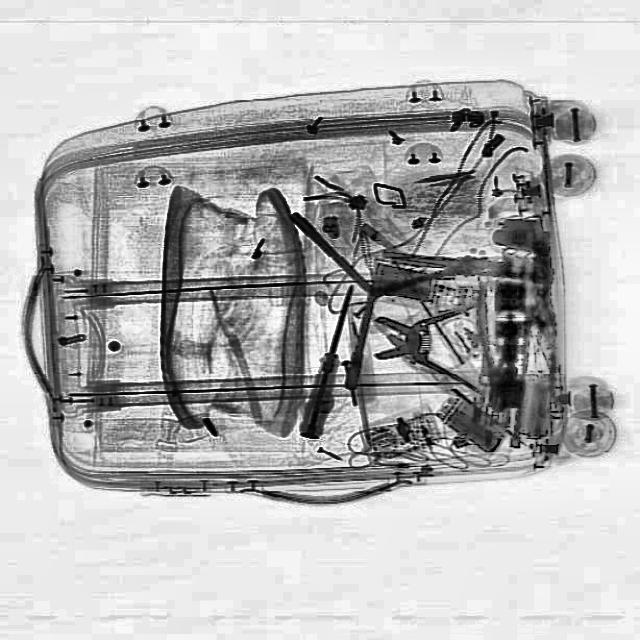Pliers: (372, 296, 488, 392)
